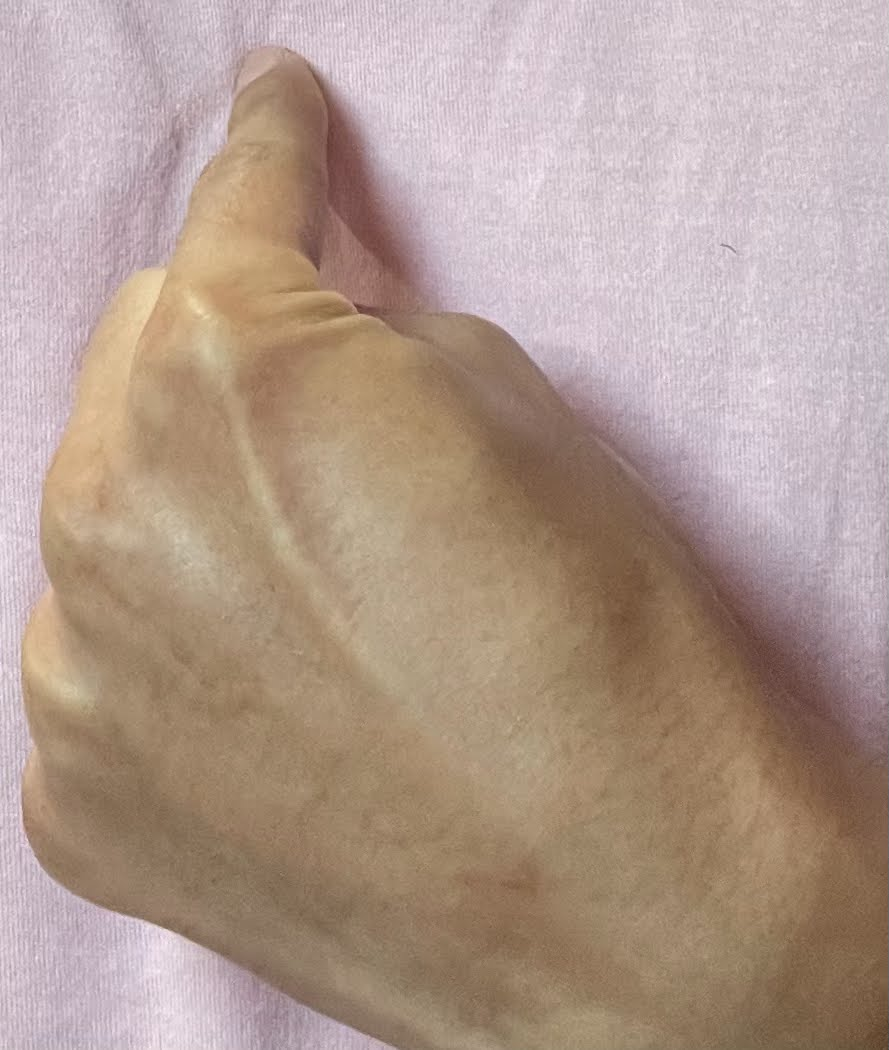I: (14, 38, 862, 1042)
